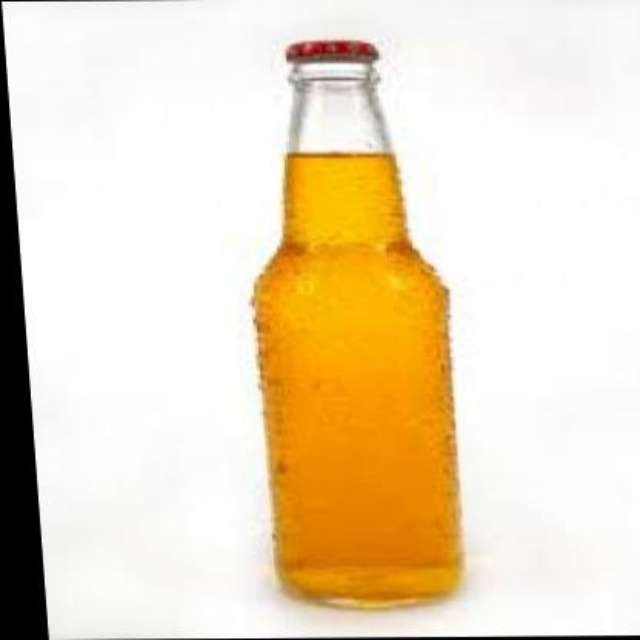trash: (254, 40, 462, 606)
